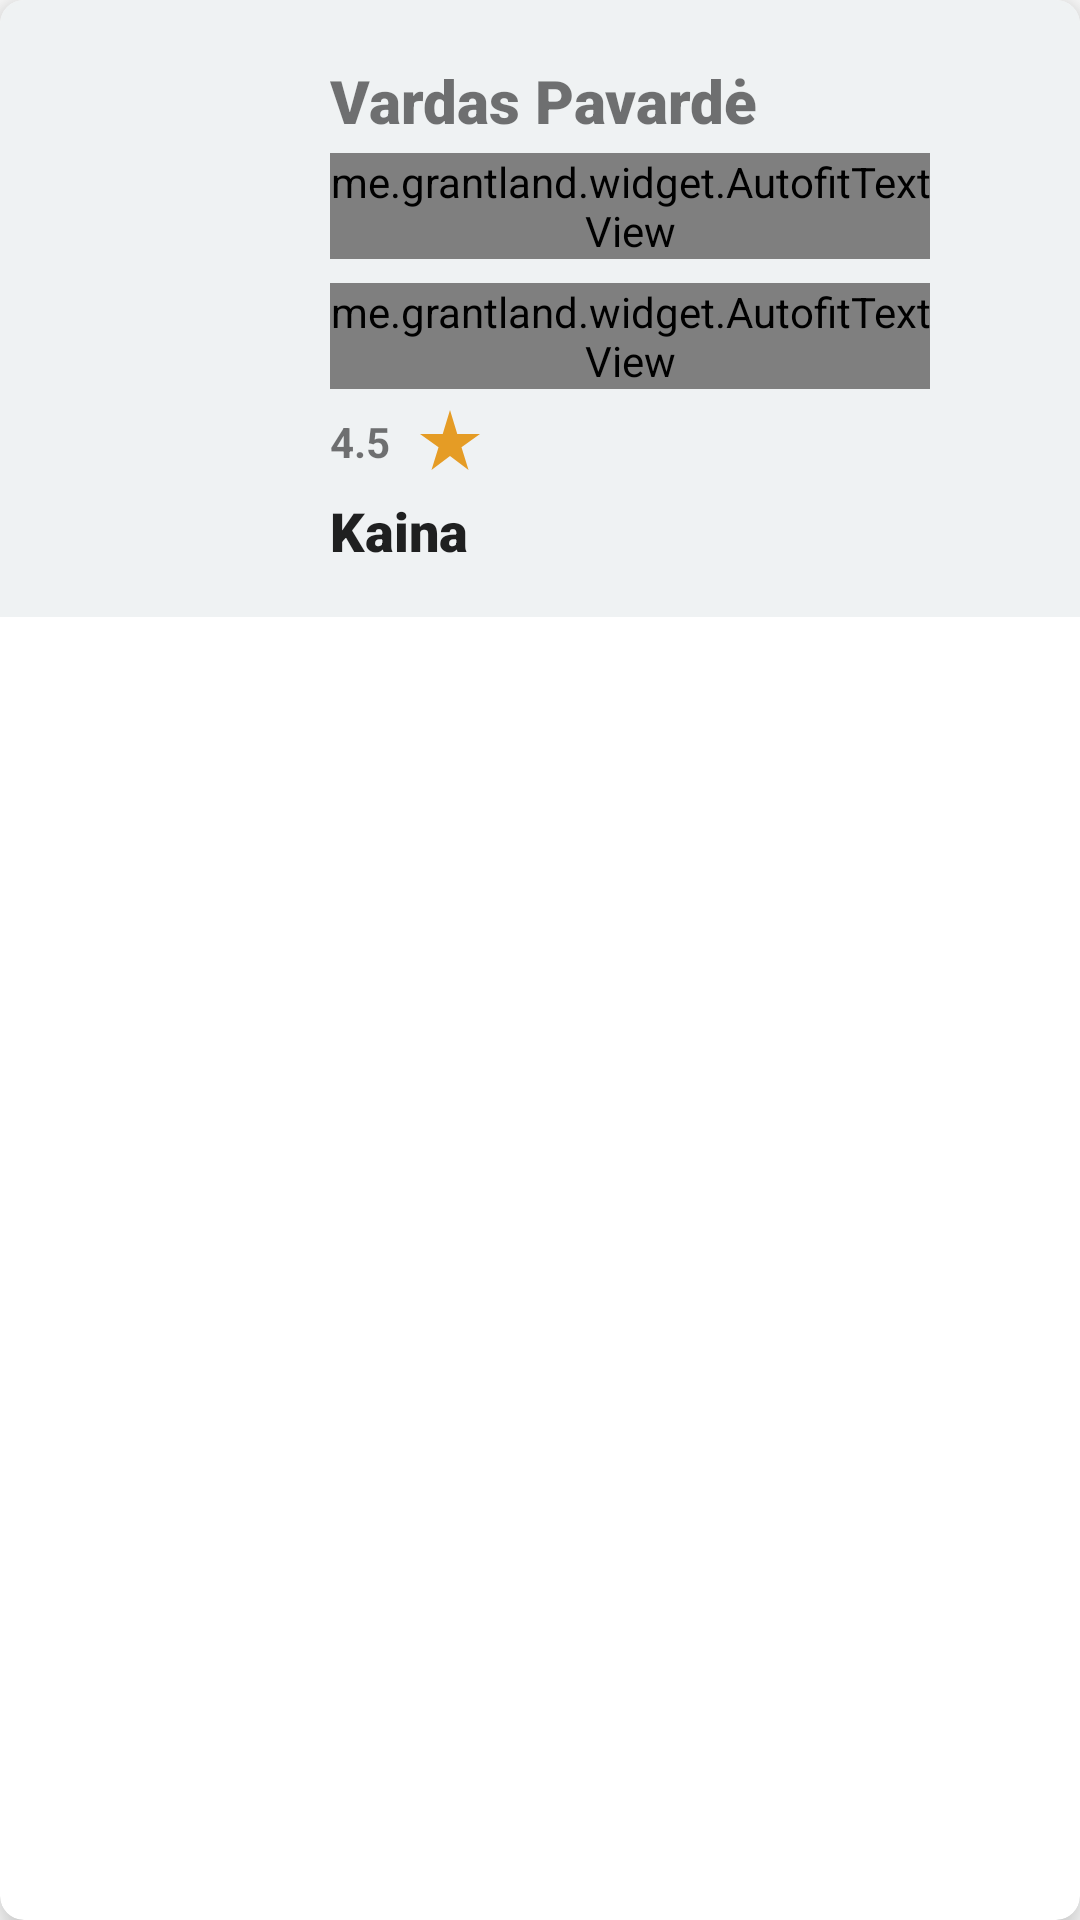

Point at icon controls on the screen. Image size 1080px×1920px, points as (x=x, y=y).
star rate: (x=450, y=440)
